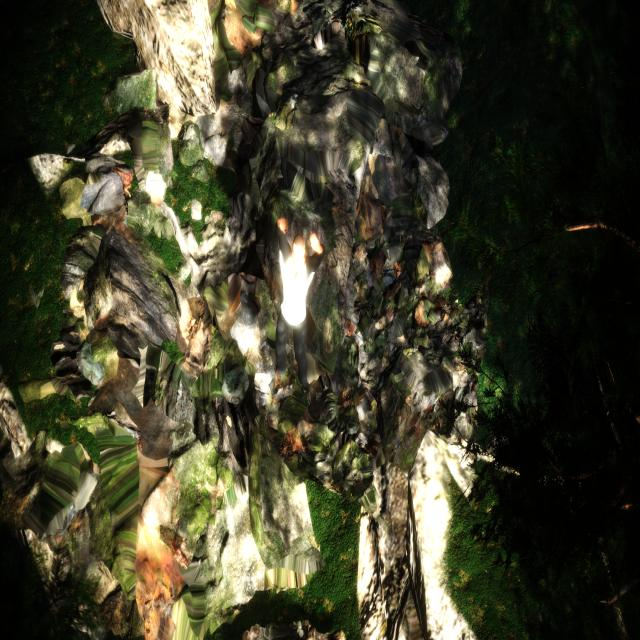Human: (266, 176, 325, 411)
